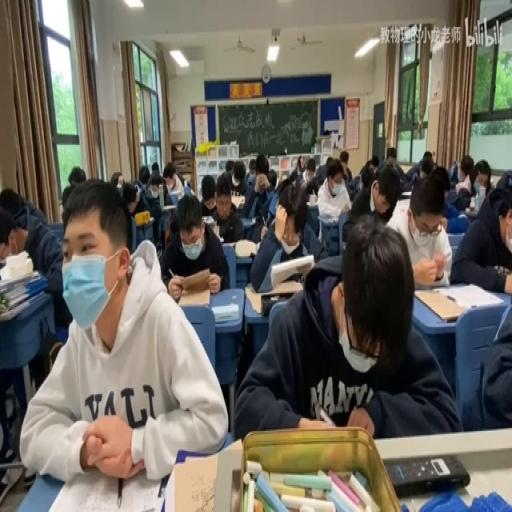calculator: (46, 461, 163, 512), (169, 453, 220, 512), (434, 283, 504, 311), (243, 282, 299, 314), (270, 253, 314, 289), (0, 287, 46, 321), (0, 268, 39, 294), (174, 283, 210, 306), (494, 299, 510, 341), (212, 302, 238, 324), (234, 238, 257, 258), (230, 193, 244, 209), (210, 220, 219, 238), (241, 215, 255, 226), (201, 214, 216, 224), (220, 240, 235, 249), (306, 196, 318, 205), (162, 204, 176, 210), (254, 240, 261, 252), (401, 190, 411, 198), (218, 236, 224, 243)
paper: (237, 216, 455, 441), (0, 180, 66, 498), (386, 166, 452, 289), (450, 172, 512, 292), (161, 192, 228, 294), (246, 163, 278, 239), (316, 152, 350, 198), (122, 179, 152, 223), (345, 185, 373, 229), (451, 155, 476, 198), (380, 148, 406, 189), (0, 188, 27, 226), (160, 162, 186, 199), (198, 172, 218, 218), (428, 164, 450, 202), (301, 157, 320, 199), (358, 154, 379, 189), (493, 170, 512, 199), (403, 160, 422, 188), (473, 164, 490, 192), (418, 151, 434, 176), (276, 176, 294, 198), (254, 154, 269, 179), (68, 165, 86, 185), (232, 164, 246, 188), (138, 164, 150, 186), (61, 184, 72, 208), (149, 176, 163, 194), (292, 164, 304, 184), (109, 171, 122, 189), (267, 168, 277, 189), (248, 158, 257, 178), (224, 158, 234, 171), (183, 180, 192, 194), (342, 168, 350, 183), (338, 155, 348, 165), (150, 162, 158, 174), (326, 156, 332, 168)
person: (386, 454, 470, 496), (230, 468, 242, 510)
